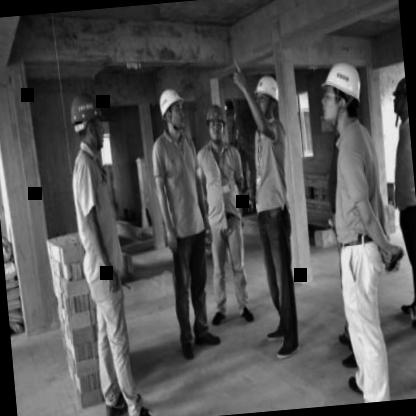helmet: (319, 58, 368, 136), (68, 88, 108, 160), (251, 67, 284, 136), (157, 83, 188, 138), (389, 70, 409, 127), (206, 97, 228, 148)
